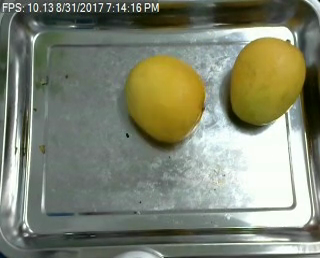Mango: (124, 54, 204, 145), (227, 36, 306, 125)
